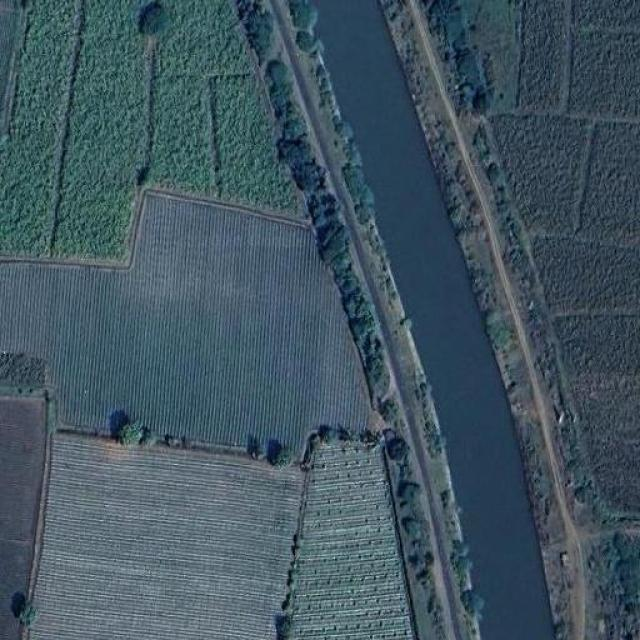land-Sx1C: (0, 191, 370, 457), (28, 435, 302, 640), (54, 1, 157, 256), (289, 446, 414, 639), (4, 1, 82, 256), (558, 314, 640, 512), (216, 76, 312, 213), (495, 117, 593, 237), (0, 395, 46, 639), (144, 78, 219, 194), (571, 0, 640, 116), (534, 239, 640, 313), (456, 0, 524, 112), (158, 0, 254, 78), (583, 125, 639, 247), (516, 1, 571, 115), (0, 0, 26, 145)
